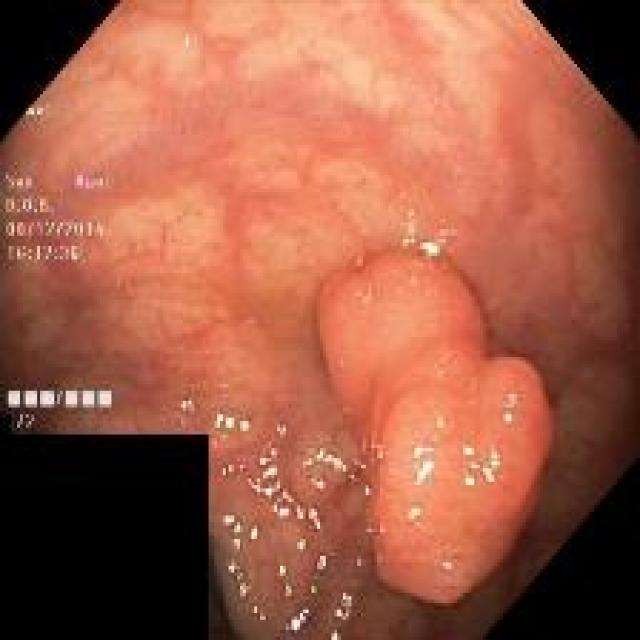Polyps: (318, 252, 552, 606)
